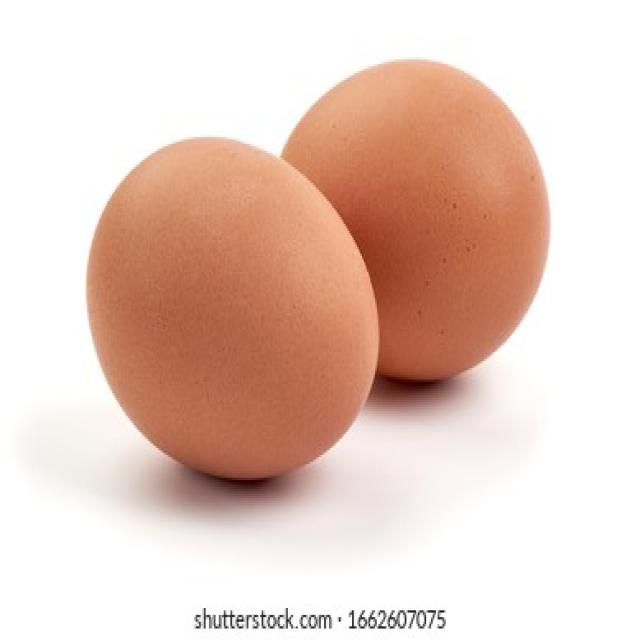Brown Egg: (84, 130, 382, 487), (275, 54, 557, 386)
